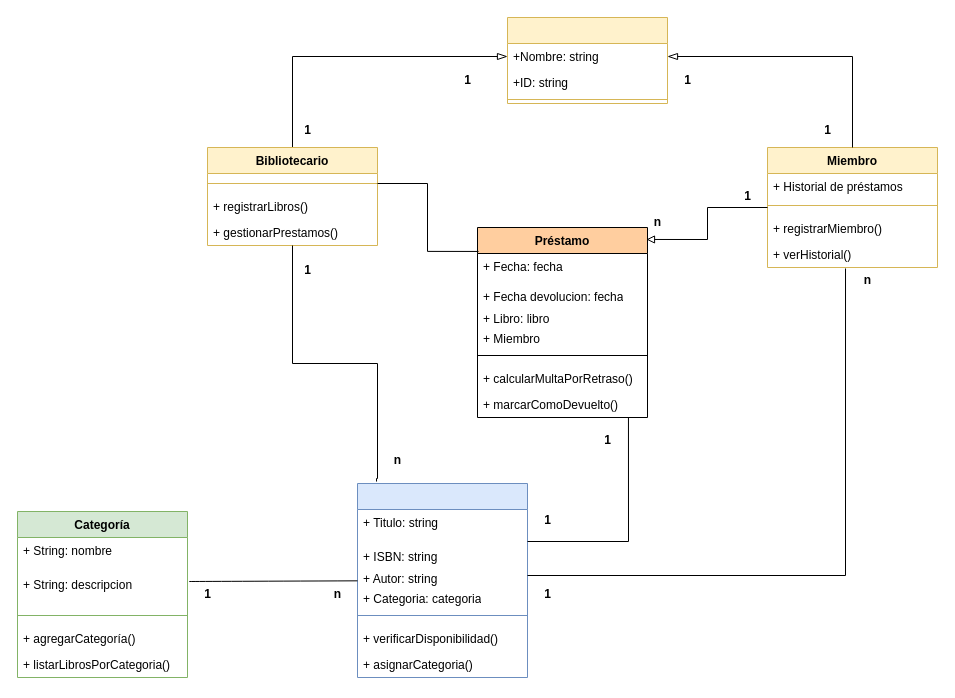
Some shapes in this 955 by 698 pixel diagram are drawn without their labels. Each missing label, with the box of its shape:
Libro: (356, 482, 528, 678)
Persona: (506, 16, 668, 104)
